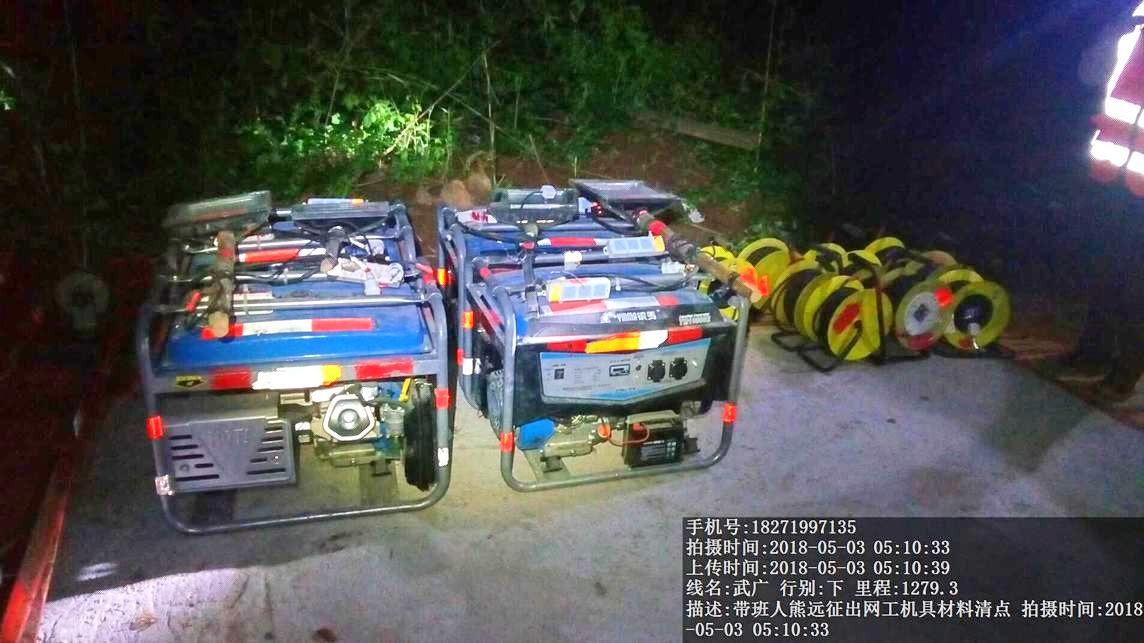DJ: (124, 264, 456, 535), (462, 246, 752, 497)
